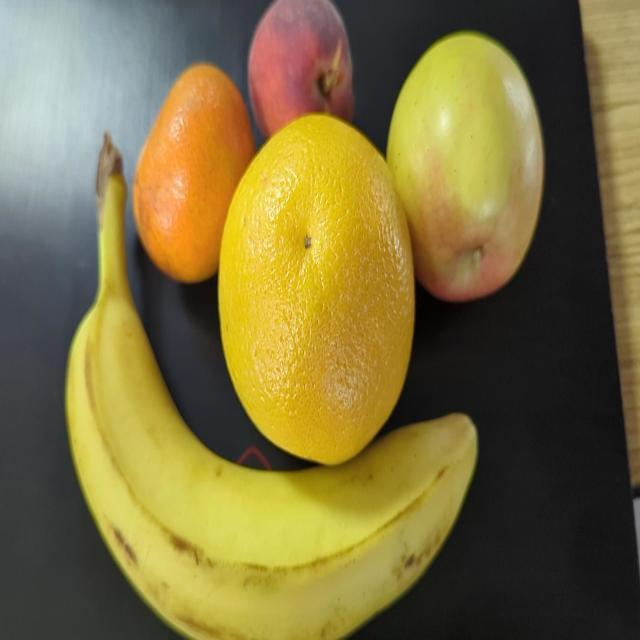Apel Gala: (394, 23, 552, 300)
Jeruk: (216, 142, 415, 464)
Jeruk Mandarin: (136, 77, 262, 298)
Persik: (243, 0, 359, 140)
Pisang: (56, 141, 508, 640)
